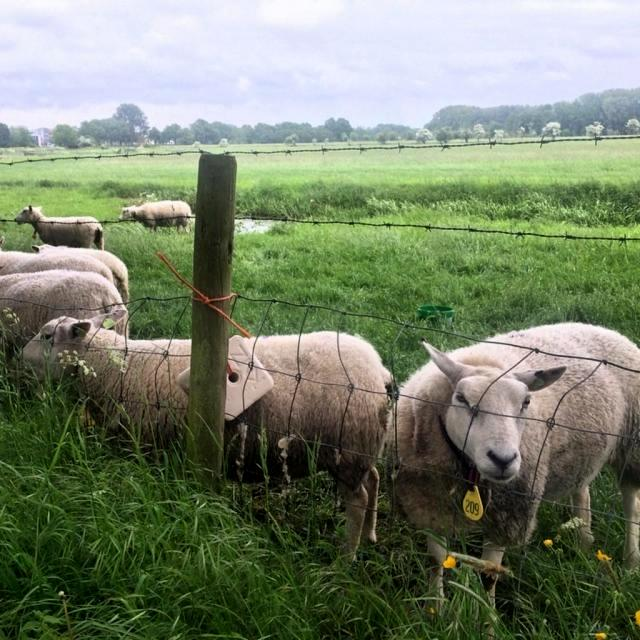sheep: (22, 322, 397, 505), (392, 322, 638, 597), (0, 272, 126, 347), (33, 243, 128, 302), (15, 205, 102, 248), (0, 247, 112, 277)
